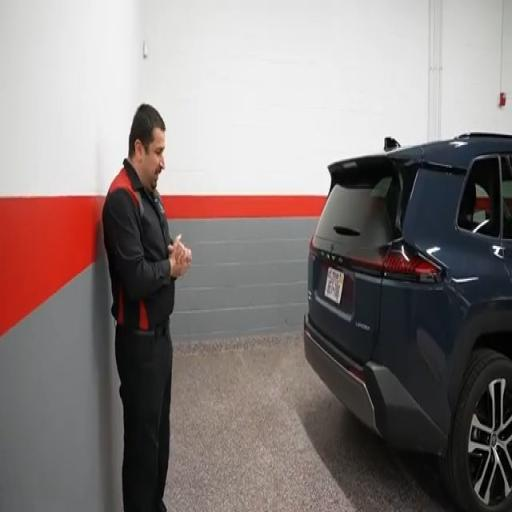bumper: (304, 318, 447, 453)
taillight: (352, 245, 441, 283)
tire: (440, 349, 511, 511)
trunk: (308, 156, 415, 364)
window: (457, 157, 500, 237), (501, 157, 511, 238)
